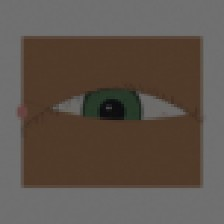pinguecula_lesion: (45, 101, 88, 135)
